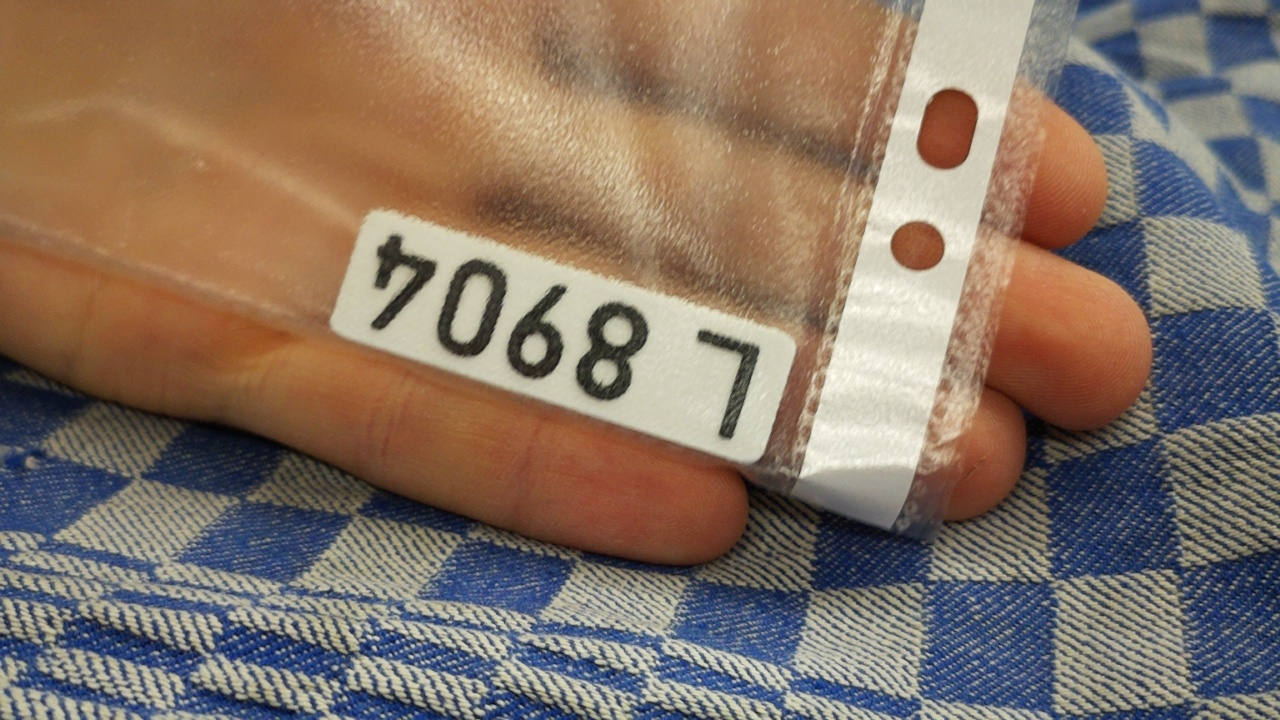license_plate: (326, 202, 804, 470)
